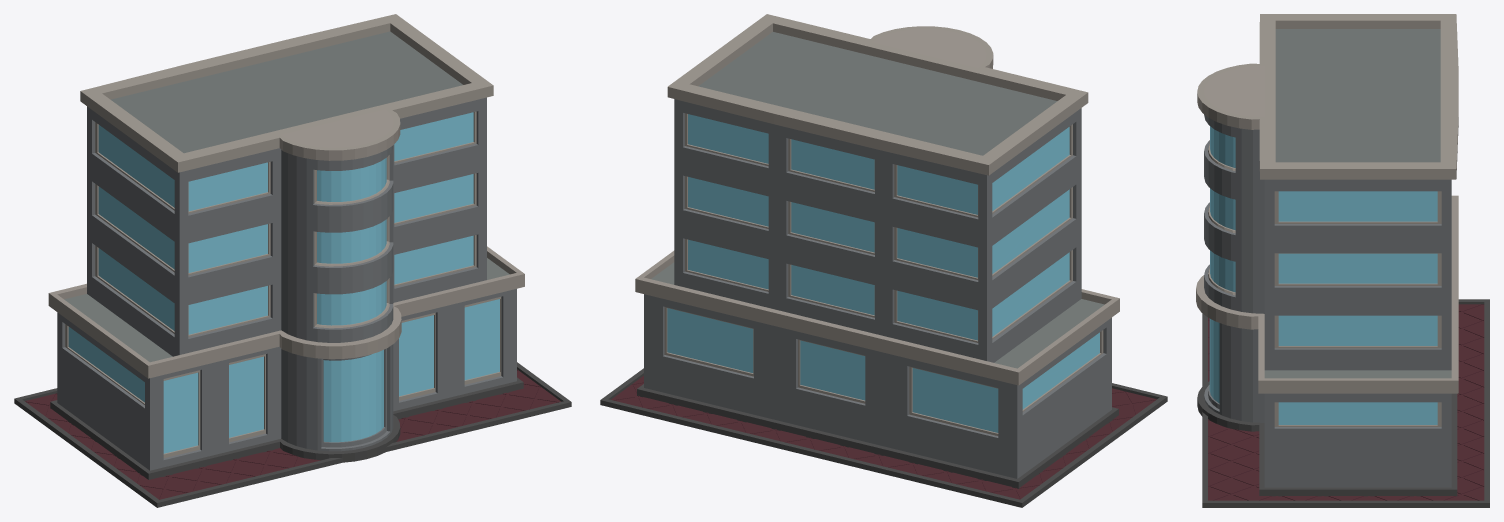
The model's file is SM_buisness_building_01_A.gltf.
3 renders of one model, left to right at view 1: azimuth 30°, elevation 25°; view 2: azimuth 150°, elevation 25°; view 3: azimuth 270°, elevation 25°, orthographic.
Parts seen in each view (by area): view 1: SM_buisness_building_01_A; view 2: SM_buisness_building_01_A; view 3: SM_buisness_building_01_A.
Part boxes in pixels (bbox=[...]): SM_buisness_building_01_A: bbox=[14, 14, 571, 507]; SM_buisness_building_01_A: bbox=[600, 14, 1167, 507]; SM_buisness_building_01_A: bbox=[1196, 14, 1489, 507].
Size of the model in its own units: 5.01 by 3.61 by 3.05.
